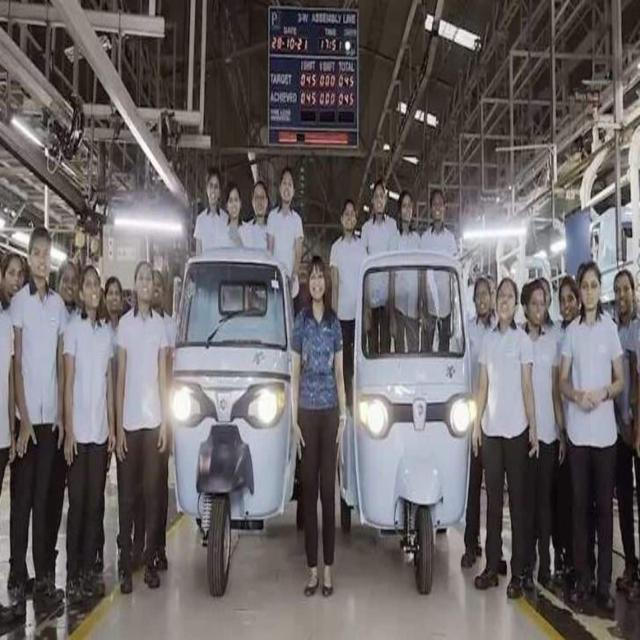autorickshaw: (340, 251, 471, 592), (170, 248, 295, 594)
